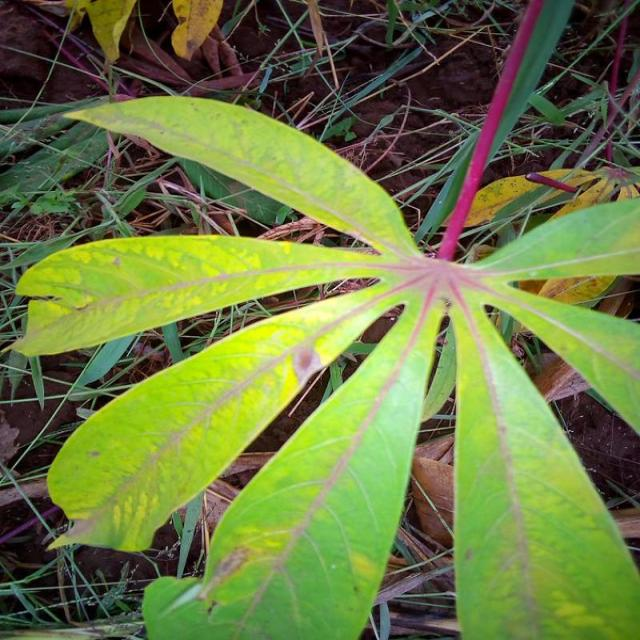cassava leaf: (9, 87, 638, 638), (45, 280, 399, 554), (448, 286, 638, 638)
